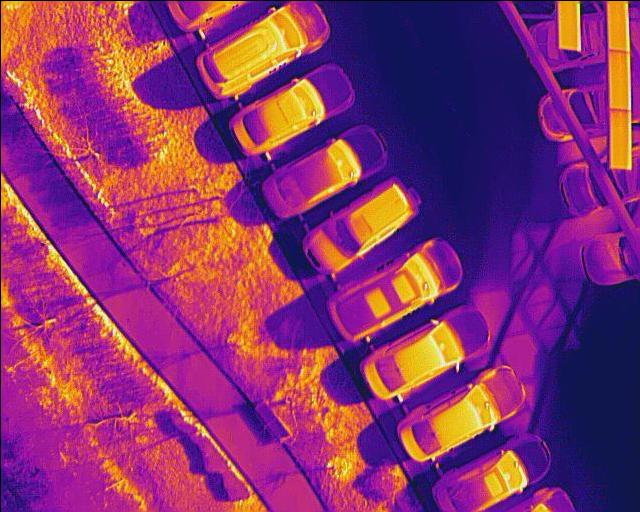No-Anomaly: (608, 109, 633, 170), (608, 50, 631, 109), (607, 0, 631, 50)
